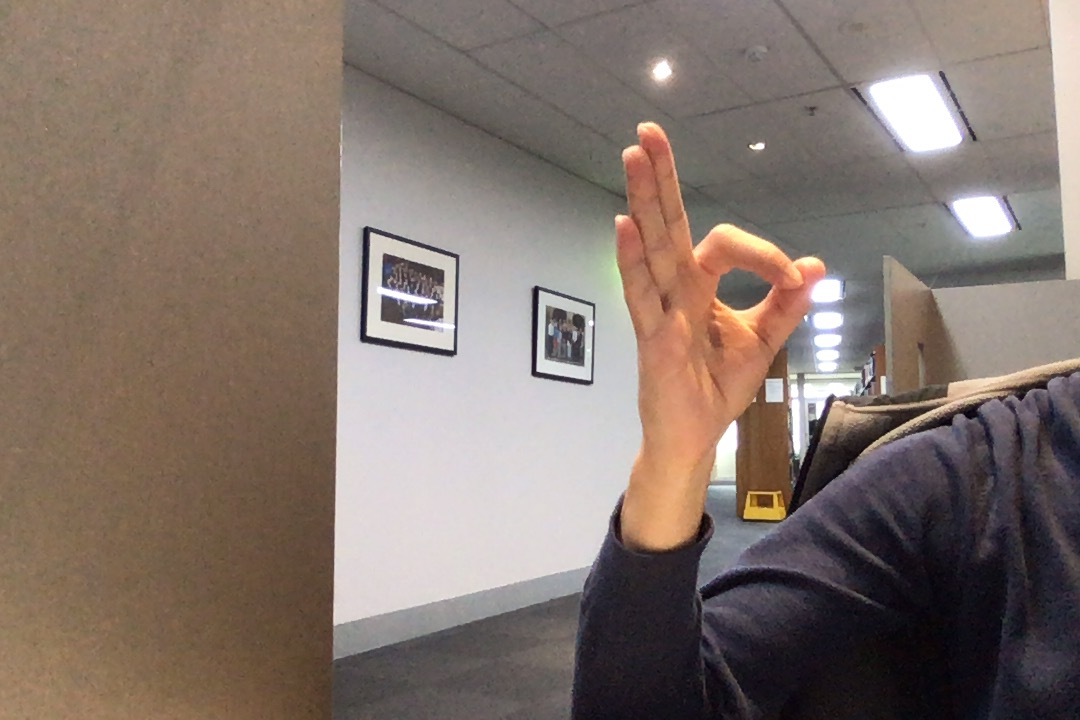oksign: (601, 112, 830, 452)
